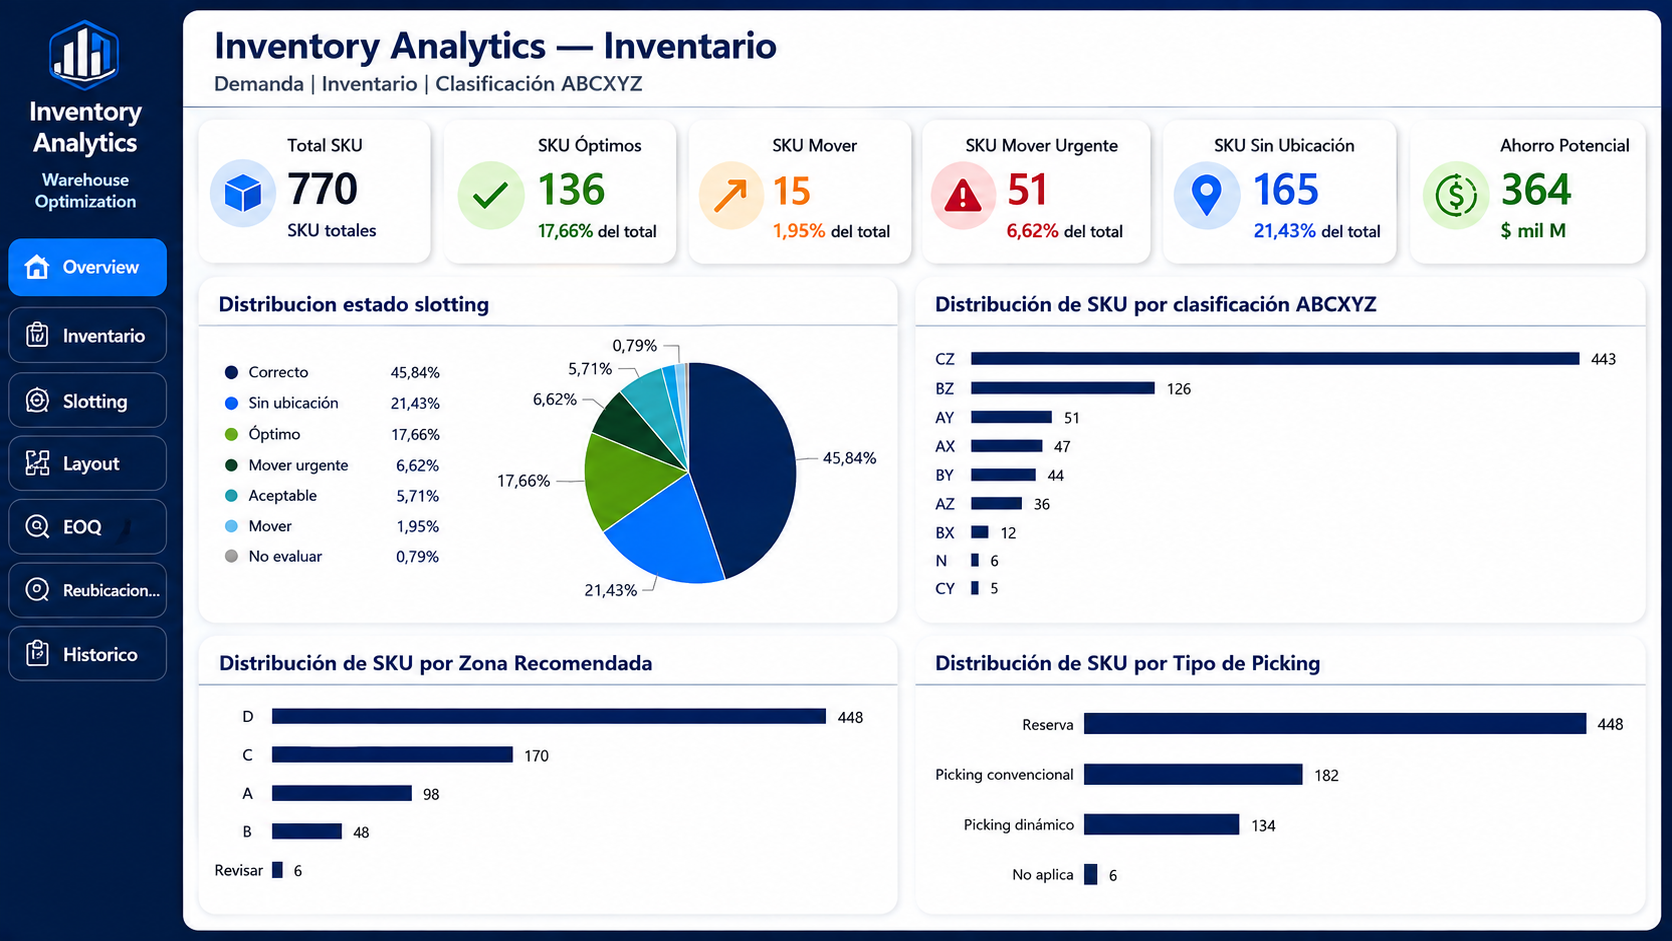

The page's visual inventory and layout, read from the dashboard file:
{"tool":"powerbi","page":{"name":"Overview","canvas":[1920,1080],"ordinal":0},"visuals":[{"type":"shape","box":[240,25,1645,1040],"z":0,"group":"g1"},{"type":"shape","box":[0,10.9,239.6,1056.4],"z":1000,"group":"g1"},{"type":"shape","box":[42.5,200,170,37.5],"z":2000,"group":"g1"},{"type":"textbox","box":[28.1,99.4,185.8,118.8],"z":3000,"group":"g1"},{"type":"pageNavigator","box":[28.1,237.6,185.8,773.3],"z":4000,"group":"g1"},{"type":"group","id":"g1","title":"Grupo 1","box":[0,10.9,1885,1056.4],"z":4500},{"type":"textbox","box":[256,40,510,75],"z":5000,"group":"g1"},{"type":"cardVisual","title":"Total SKU","fields":{"Data":["Medidas.Total SKU"]},"box":[255,140,200,110],"z":5000},{"type":"shape","box":[240,105,1640,36],"z":6000,"group":"g1"},{"type":"cardVisual","title":"SKU Optimos","fields":{"Data":["Medidas.SKU Óptimos"]},"box":[492.5,140,200,110],"z":6000},{"type":"cardVisual","title":"SKU a Mover","fields":{"Data":["Medidas.SKU Mover"]},"box":[735,140,200,110],"z":7000},{"type":"cardVisual","title":"SKU Mover Urgentes","fields":{"Data":["Medidas.SKU Mover Urgente"]},"box":[982.5,140,240,110],"z":8000},{"type":"cardVisual","title":"SKU Sin Ubicacion","fields":{"Data":["Medidas.SKU Sin Ubicación"]},"box":[1287.5,140,220,110],"z":9000},{"type":"cardVisual","title":"Distancia Potencial Ahorrada","fields":{"Data":["Medidas.Ahorro Total Distancia"]},"box":[1540,140,320,110],"z":10000},{"type":"barChart","title":"Distribución de SKU por clasificación ABCXYZ","fields":{"Category":["dim_abcxyz.abcxyz"],"Y":["Medidas.Total SKU ABCXYZ"]},"box":[1060.4,263.1,765.8,400.6],"z":13000},{"type":"barChart","title":"Distribución de SKU por Zona Recomendada","fields":{"Category":["fact_layout.zona_recomendada"],"Y":["Medidas.SKU por Zona"]},"box":[267.1,665.7,744.2,400.6],"z":14000},{"type":"barChart","title":"Distribución de SKU por Tipo de Picking","fields":{"Category":["fact_layout.tipo_picking"],"Y":["Medidas.SKU por Picking"]},"box":[1062.3,665.7,765.8,400.6],"z":15000},{"type":"pieChart","title":"Distribucion estado slotting","fields":{"Category":["fact_layout.estado_slotting"],"Y":["CountNonNull(fact_layout.codigo)"]},"box":[269,261.2,742.3,400.6],"z":16000}]}

Visuals, with their boxes on the page's 1920x1080 design canvas (x1, y1, x2, y2). These are canvas units, not pixel positions in the 1672x941 screenshot, which may show the page scaled, cropped or inside an application window:
shape: region(240, 25, 1885, 1065)
shape: region(0, 11, 240, 1067)
shape: region(42, 200, 212, 238)
textbox: region(28, 99, 214, 218)
pageNavigator: region(28, 238, 214, 1011)
"Grupo 1" group: region(0, 11, 1885, 1067)
textbox: region(256, 40, 766, 115)
"Total SKU" cardVisual: region(255, 140, 455, 250)
shape: region(240, 105, 1880, 141)
"SKU Optimos" cardVisual: region(492, 140, 692, 250)
"SKU a Mover" cardVisual: region(735, 140, 935, 250)
"SKU Mover Urgentes" cardVisual: region(982, 140, 1222, 250)
"SKU Sin Ubicacion" cardVisual: region(1288, 140, 1508, 250)
"Distancia Potencial Ahorrada" cardVisual: region(1540, 140, 1860, 250)
"Distribución de SKU por clasificación ABCXYZ" barChart: region(1060, 263, 1826, 664)
"Distribución de SKU por Zona Recomendada" barChart: region(267, 666, 1011, 1066)
"Distribución de SKU por Tipo de Picking" barChart: region(1062, 666, 1828, 1066)
"Distribucion estado slotting" pieChart: region(269, 261, 1011, 662)
